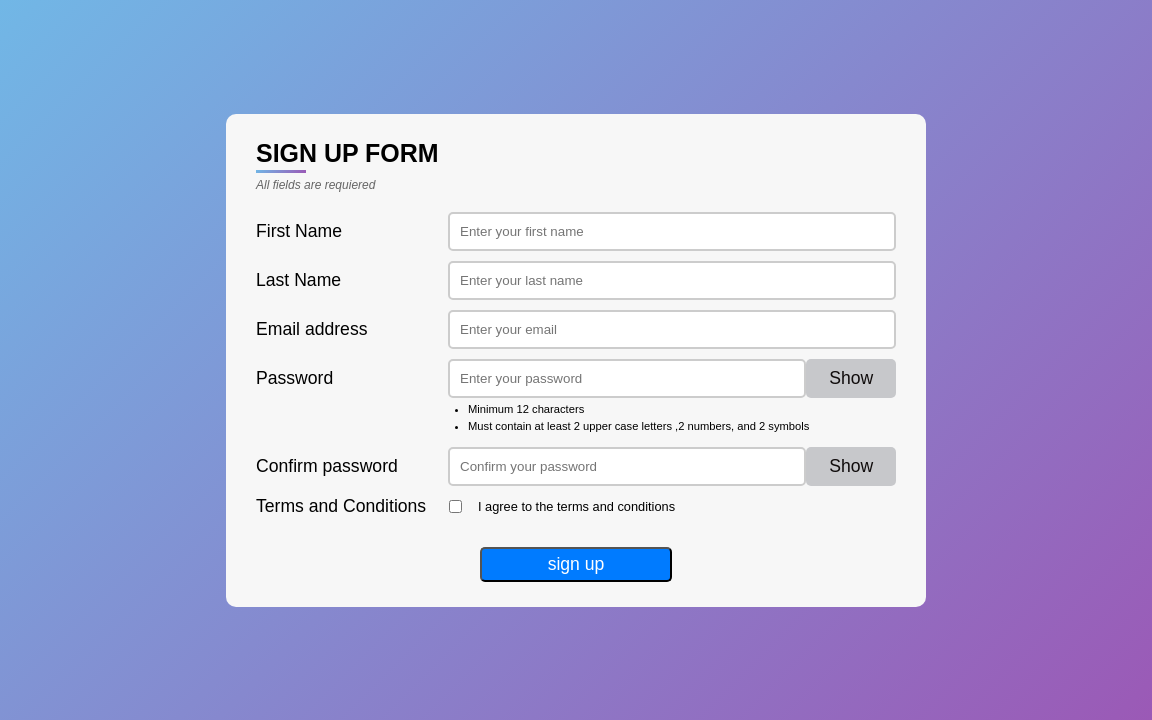
SignupForm component › should display validation errors when entering password length less then 12
// Enter invalid data
Type "cscsc" into the password field with test id "password" at (627, 378), box [448, 358, 806, 398]
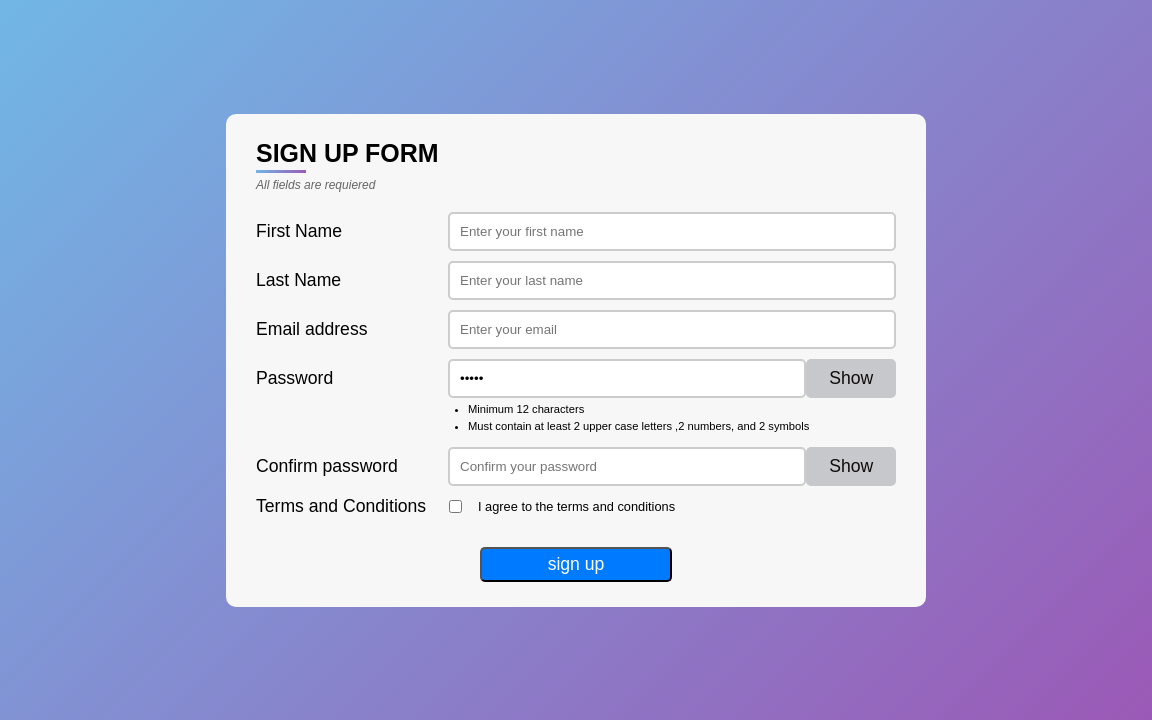
Click the button "sign up" at (576, 564), box [480, 546, 672, 582]
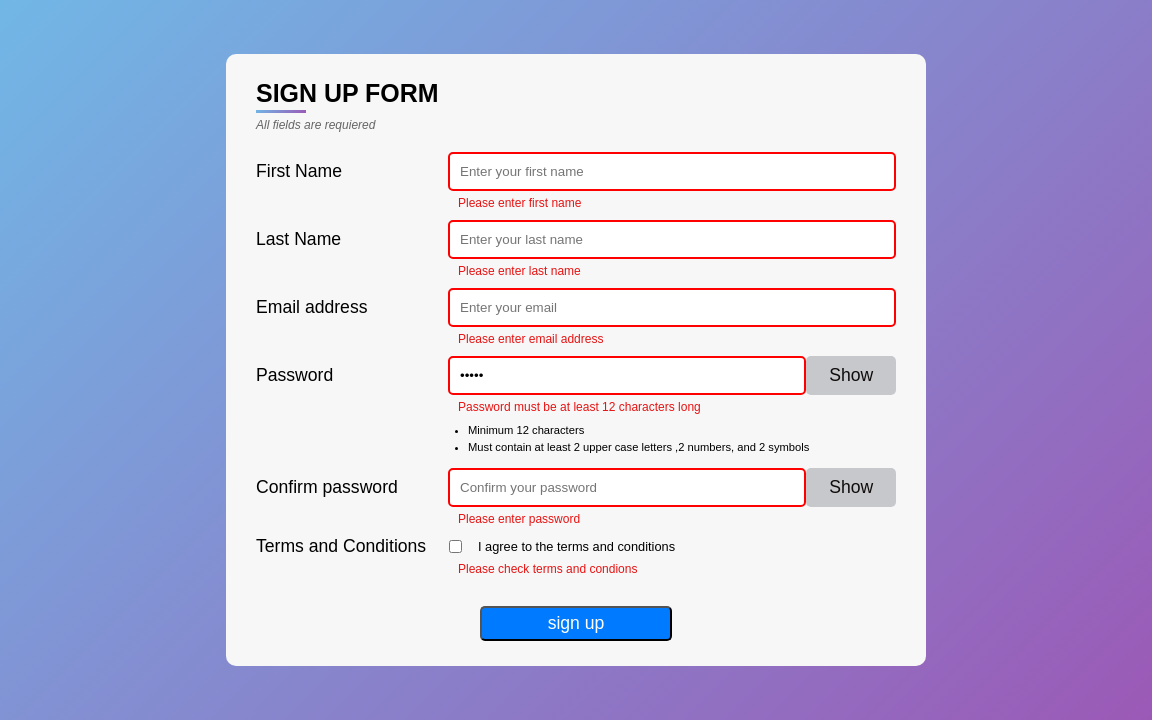
Check: the text "Password must be at least 12 characters long" is shown, box [458, 400, 701, 414]
